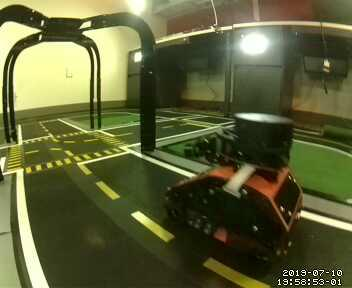pheeno: (164, 109, 306, 263)
